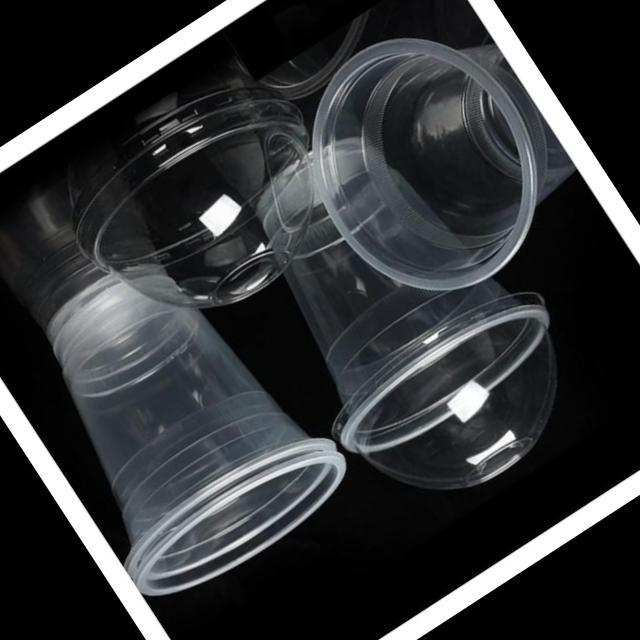GelasPlastik: (194, 76, 577, 478), (0, 216, 364, 620), (261, 0, 611, 341)
